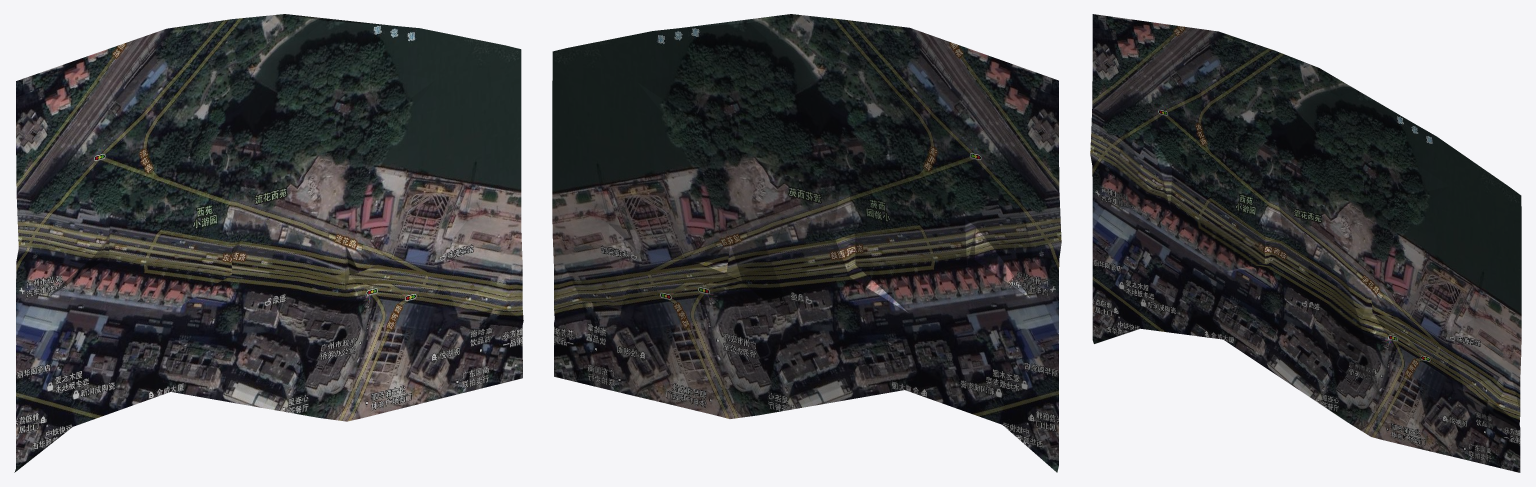
3 renders of one model, left to right at view 1: azimuth 30°, elevation 25°; view 2: azimuth 150°, elevation 25°; view 3: azimuth 330°, elevation 25°, orthographic. The views are drawn at different scales.
Parts seen in each view (by area): view 1: 0_0_3_1_3_2; view 2: 0_0_3_1_3_2; view 3: 0_0_3_1_3_2.
Boxes of the visible parts, x1,y1,x2,y2 form: 0_0_3_1_3_2: [14, 14, 523, 472]; 0_0_3_1_3_2: [552, 14, 1061, 472]; 0_0_3_1_3_2: [1090, 14, 1521, 472].
Bounding box in the file's own units: 486 × 401 × 13.
Materials: 1 (1 with a texture image).
